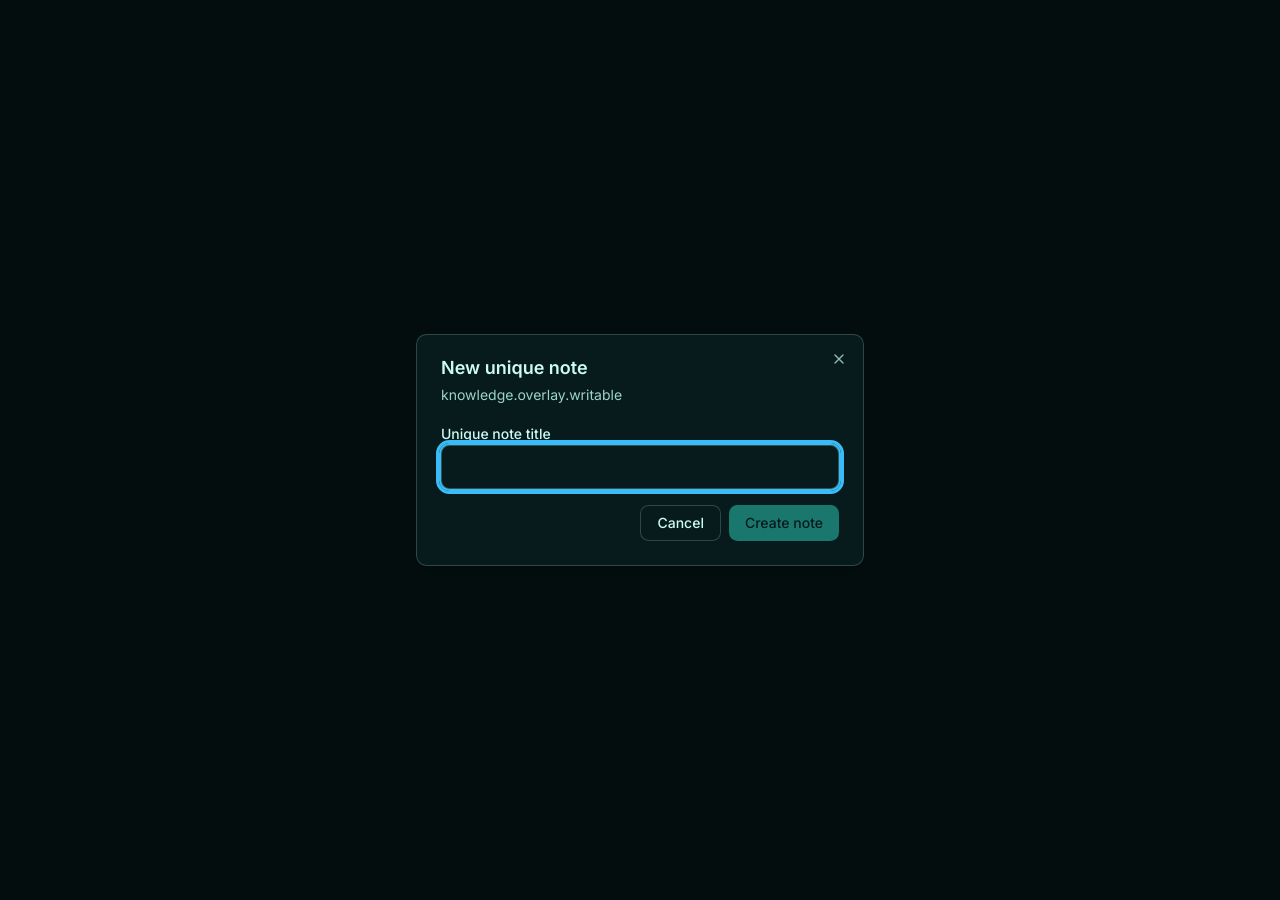
Scenario: CreateUniqueNoteDialog › clears a mutation error after close and reopen while preserving retry identity while open
This screenshot has width=1280, height=900.
Step 1. Type "Retry me" into the field labelled "Unique note title" → (640, 467), box [441, 445, 839, 489]
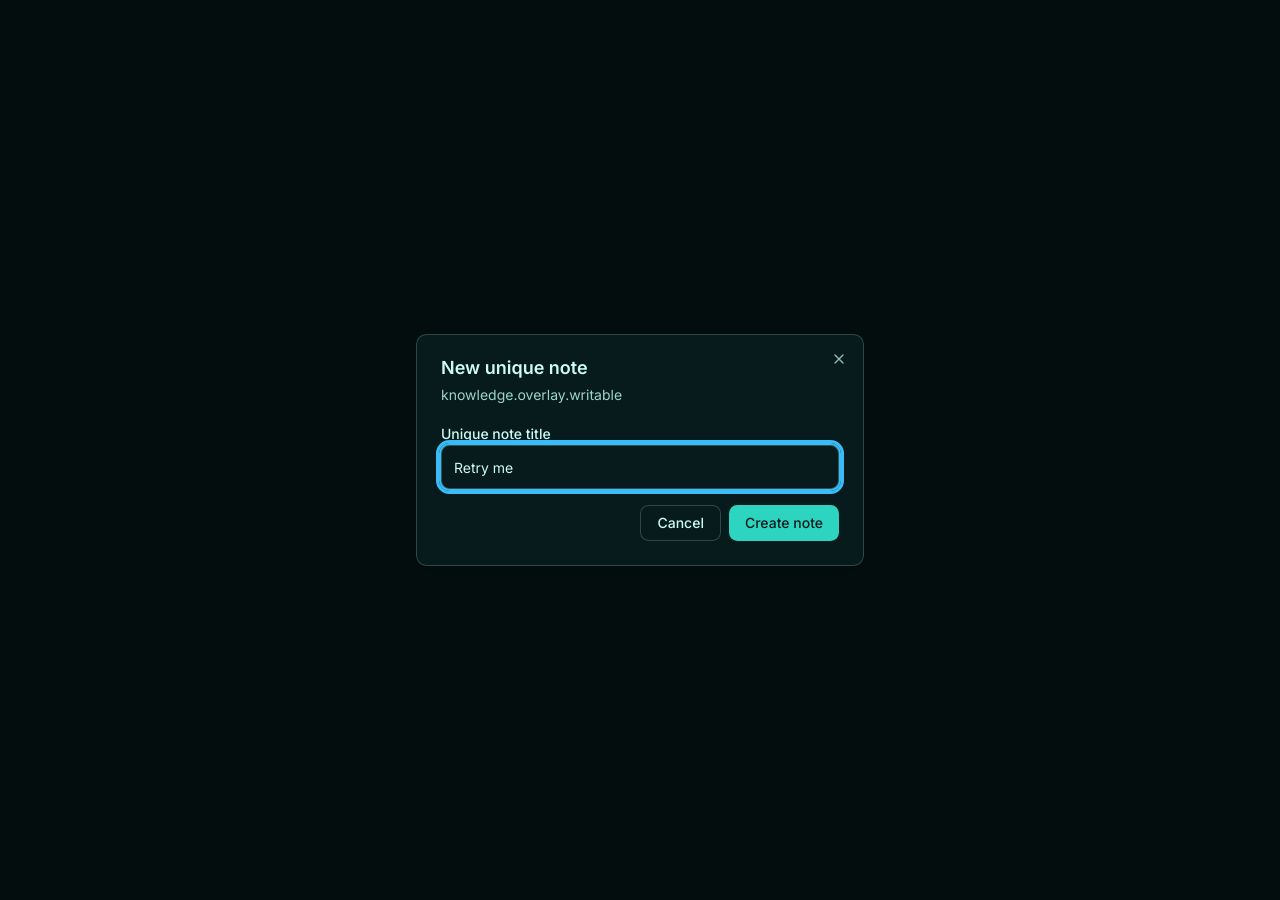
Step 2. Click the button "Create note" → (784, 523), box [729, 505, 839, 541]
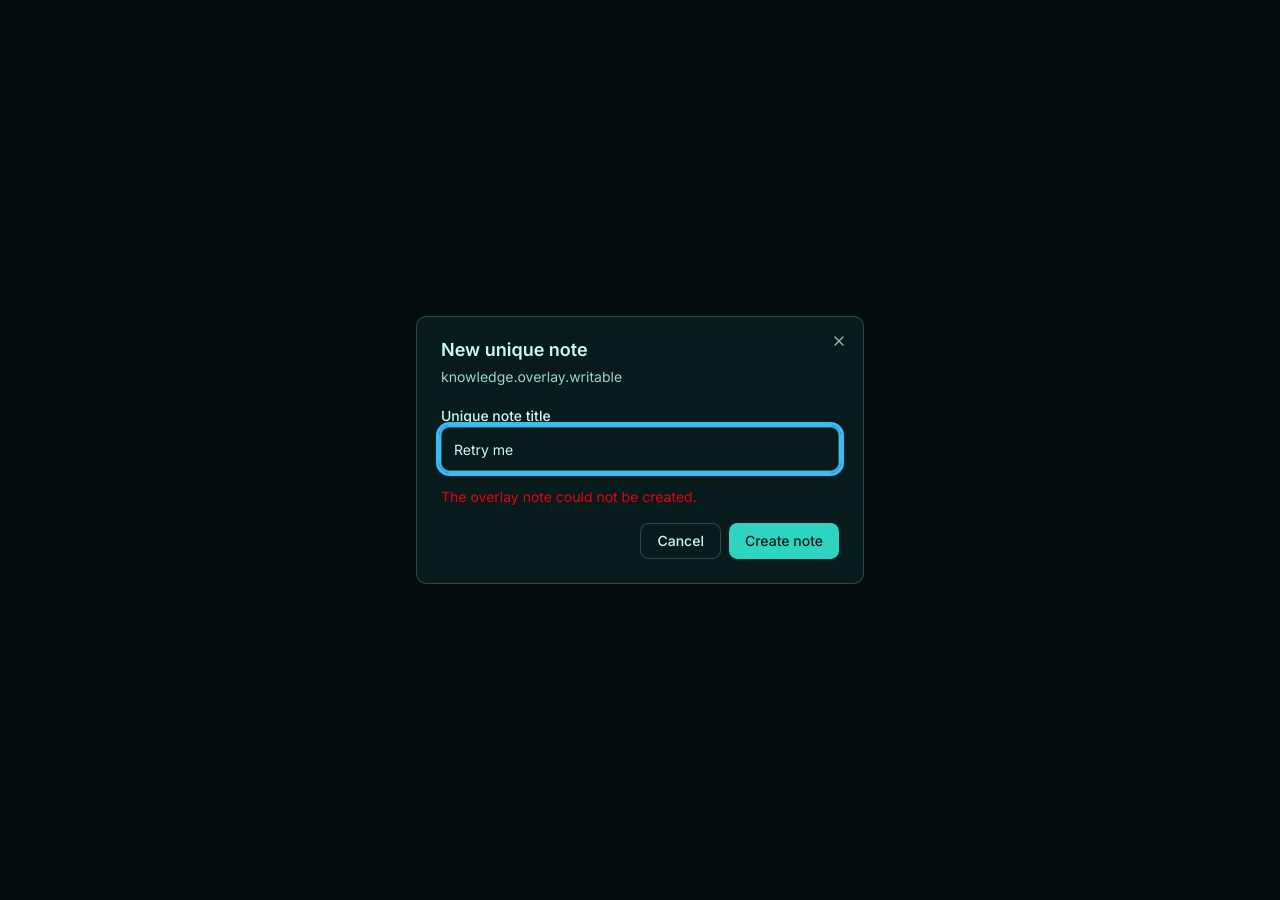
Now the message "The overlay note could not be created." is shown, box [441, 488, 697, 505]
